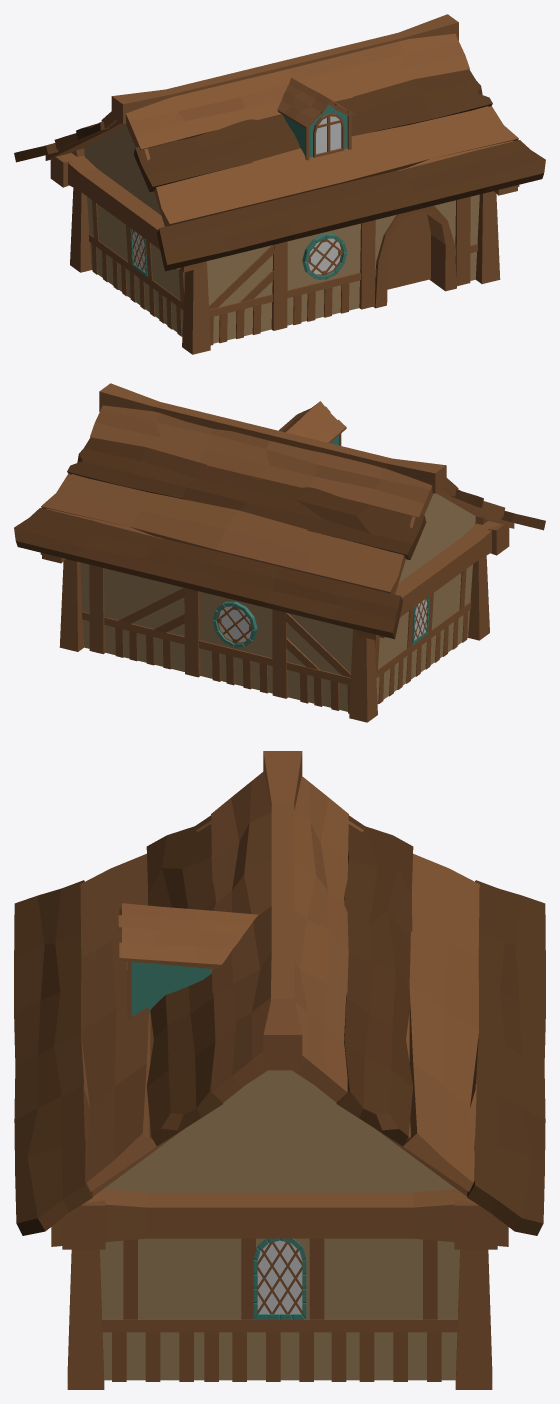
Rendered from SM_hous_02_A.gltf.
3 views of the same model, one above another, from view 1: azimuth 30°, elevation 25°; view 2: azimuth 150°, elevation 25°; view 3: azimuth 270°, elevation 25° (orthographic). The views are drawn at different scales.
Parts seen in each view (by area): view 1: SM_hous_02_A; view 2: SM_hous_02_A; view 3: SM_hous_02_A.
Boxes of the visible parts, x1,y1,x2,y2 form: SM_hous_02_A: (14, 14, 545, 354); SM_hous_02_A: (14, 383, 545, 722); SM_hous_02_A: (14, 751, 545, 1389).
Bounding box in the file's own units: 8.7 × 4.61 × 6.
